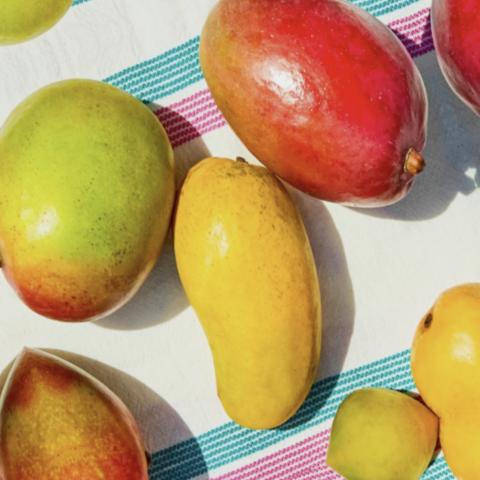mango: (116, 106, 390, 465), (161, 0, 480, 298), (0, 30, 247, 393)
